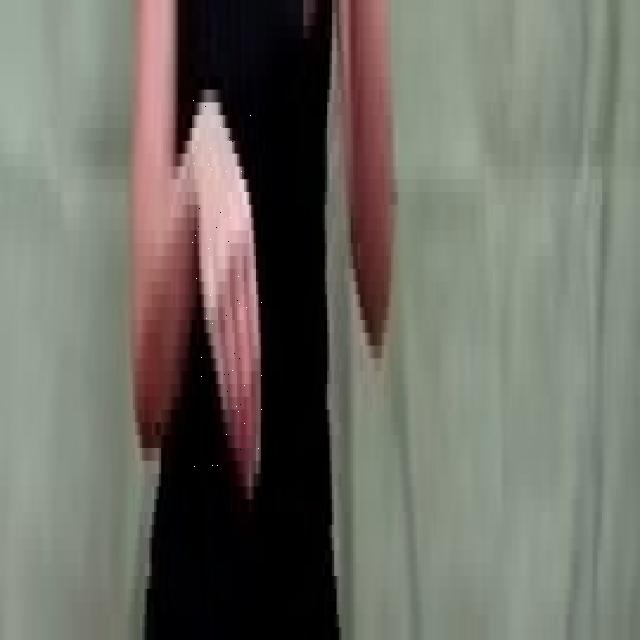ingredients: (192, 98, 264, 470)
